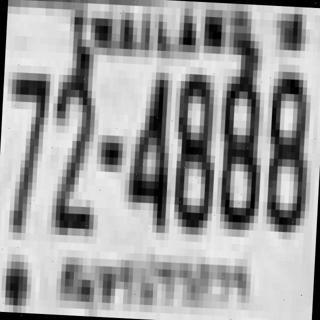N02: (47, 60, 98, 229)
N04: (123, 71, 173, 225)
N07: (2, 68, 49, 230), (4, 65, 49, 205)
N08: (262, 68, 312, 230), (169, 66, 216, 228), (216, 68, 262, 223)
